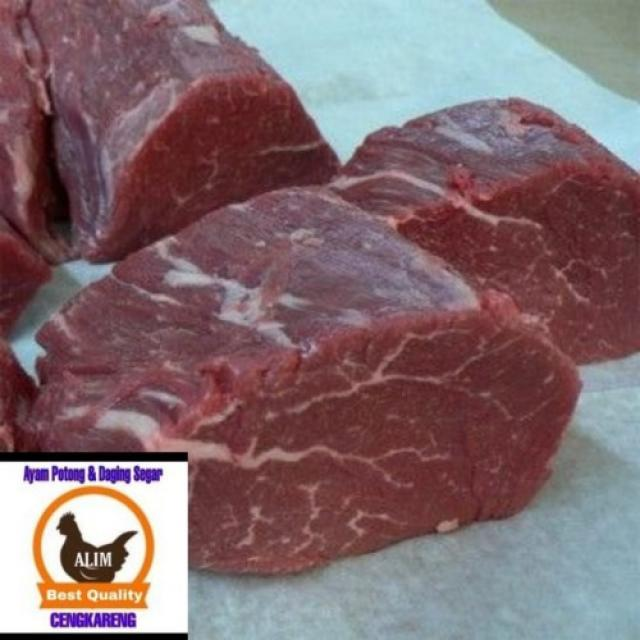beef: (13, 177, 590, 580), (1, 0, 361, 301), (275, 85, 640, 377)
